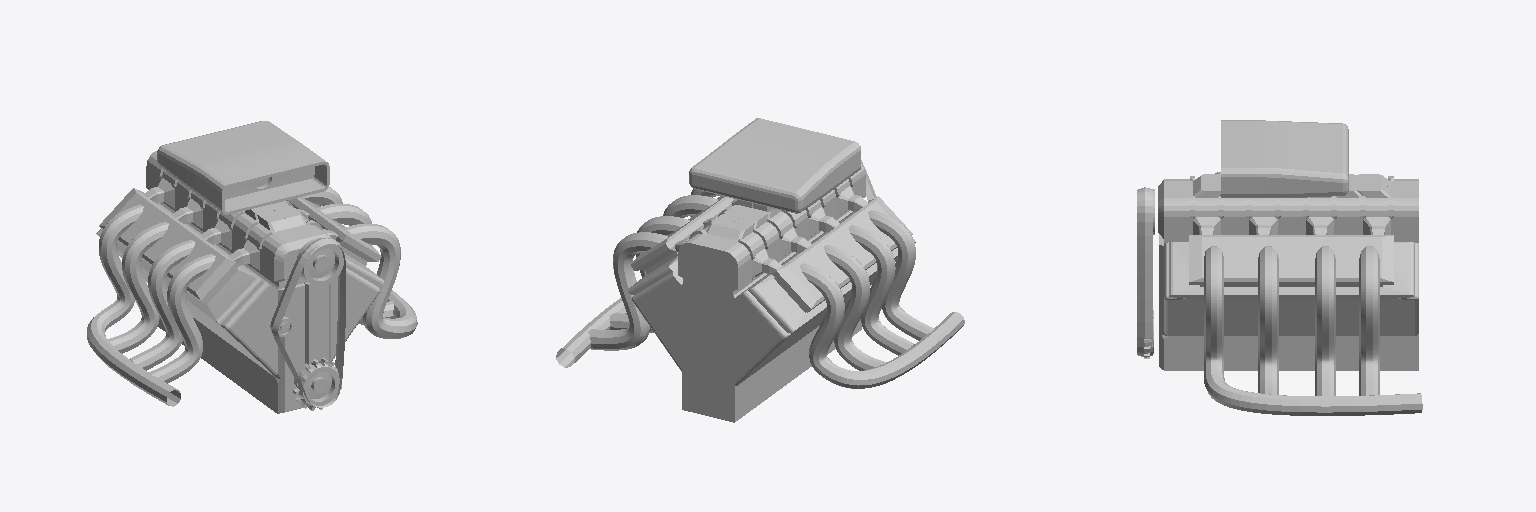
File: smolengine.obj
3 renders of one model, left to right at view 1: azimuth 30°, elevation 25°; view 2: azimuth 150°, elevation 25°; view 3: azimuth 270°, elevation 25°, orthographic.
Parts seen in each view (by area): view 1: Cube_Cube.001, Cube.002, Cylinder.001_Cylinder.002, NurbsPath_CUNurbsPath, Cube.004; view 2: Cube_Cube.001, Cube.002; view 3: Cube_Cube.001, Cube.002, NurbsPath_CUNurbsPath.
Boxes of the visible parts, <box> form: Cube_Cube.001: <box>87,150,417,413</box>; Cube.002: <box>157,121,329,214</box>; Cylinder.001_Cylinder.002: <box>278,238,343,410</box>; NurbsPath_CUNurbsPath: <box>270,238,345,407</box>; Cube.004: <box>225,167,314,199</box>; Cube_Cube.001: <box>556,164,964,422</box>; Cube.002: <box>689,118,860,213</box>; Cube_Cube.001: <box>1158,172,1422,415</box>; Cube.002: <box>1221,120,1348,197</box>; NurbsPath_CUNurbsPath: <box>1137,187,1152,357</box>.
Size of the model in its own units: 2.09 by 1.44 by 1.74.